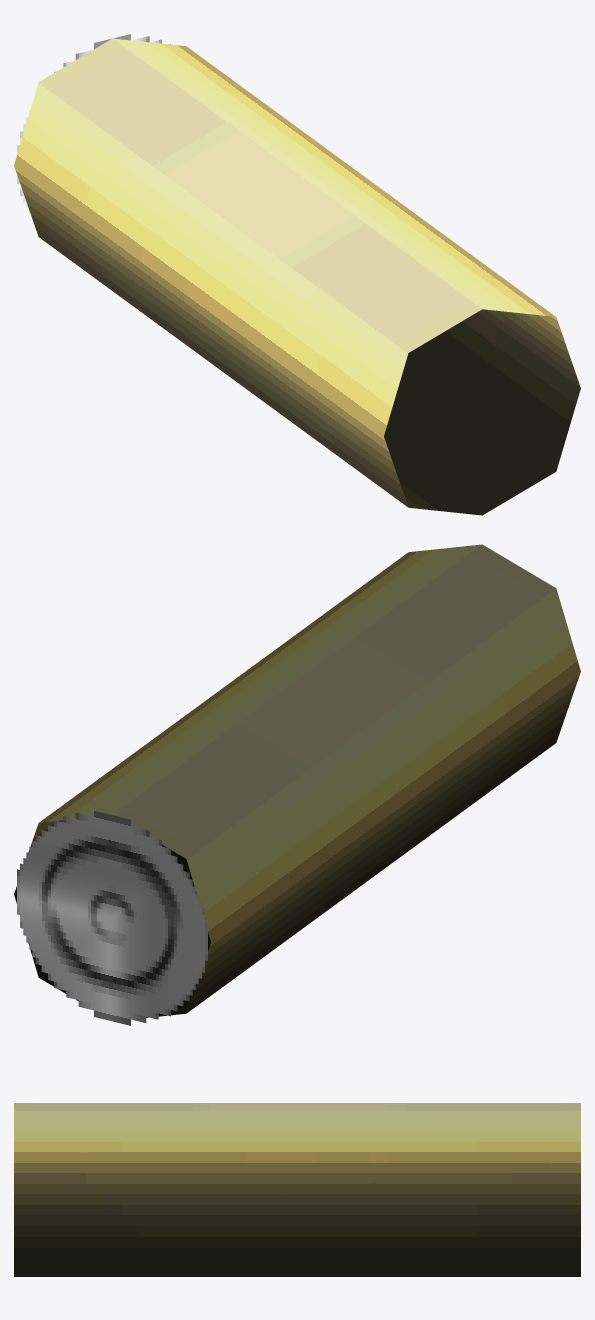
Rendered from GcartridgeZ.obj.
3 renders of one model, top to bottom at view 1: azimuth 30°, elevation 25°; view 2: azimuth 150°, elevation 25°; view 3: azimuth 270°, elevation 25°, orthographic. The views are drawn at different scales.
Bounding box in the file's own units: 8 × 8 × 26.
2 materials, 2 textured.
